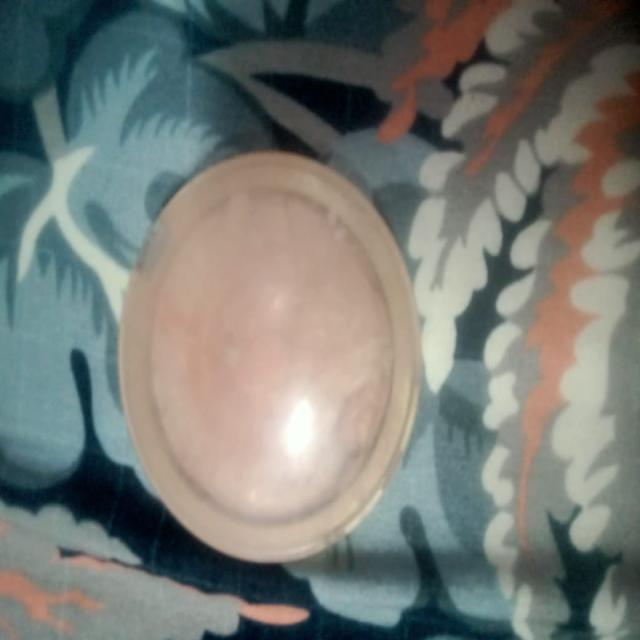powder: (121, 138, 427, 580)
